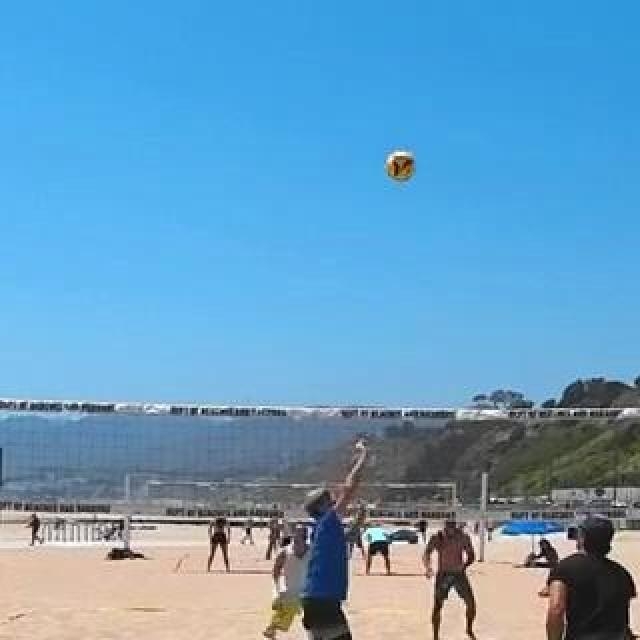volleyball: (388, 152, 418, 182)
